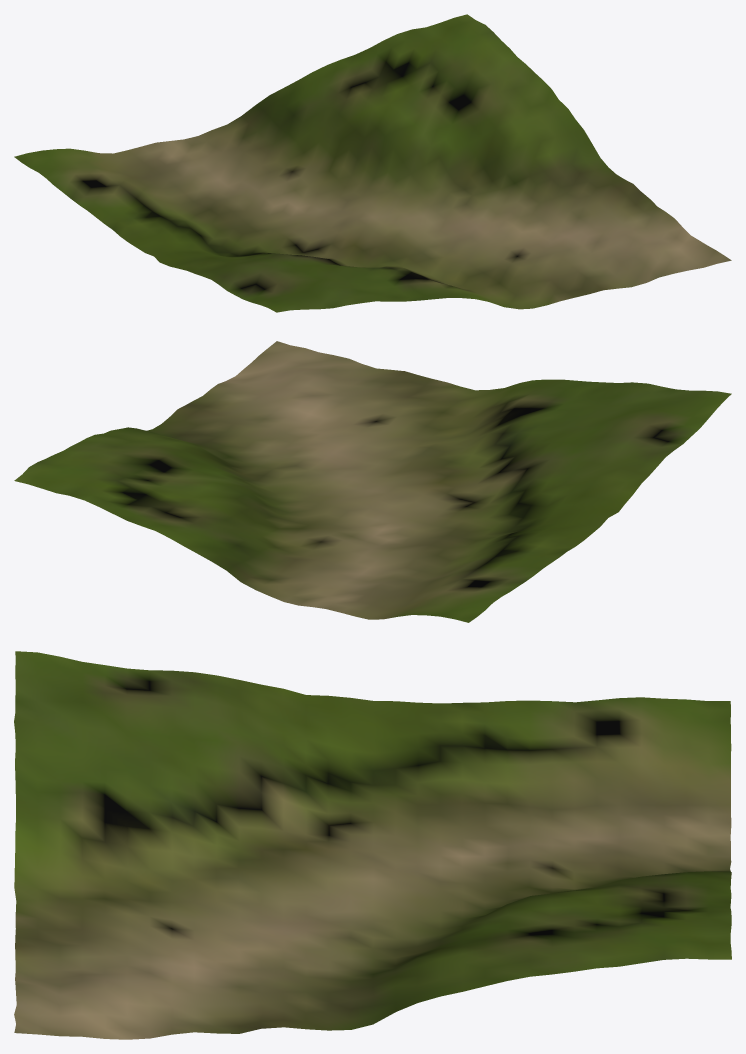
Rendered from example_terrain.gltf.
3 renders of one model, top to bottom at view 1: azimuth 30°, elevation 25°; view 2: azimuth 150°, elevation 25°; view 3: azimuth 270°, elevation 25°, orthographic. The views are drawn at different scales.
Visible parts, largest first — view 1: Ground_Baked; view 2: Ground_Baked; view 3: Ground_Baked.
Part boxes in pixels (x1,y1,x2,y2): Ground_Baked: (14, 14, 731, 312); Ground_Baked: (14, 341, 731, 622); Ground_Baked: (14, 651, 731, 1039).
Bounding box in the file's own units: 10.06 × 1.33 × 10.03.
